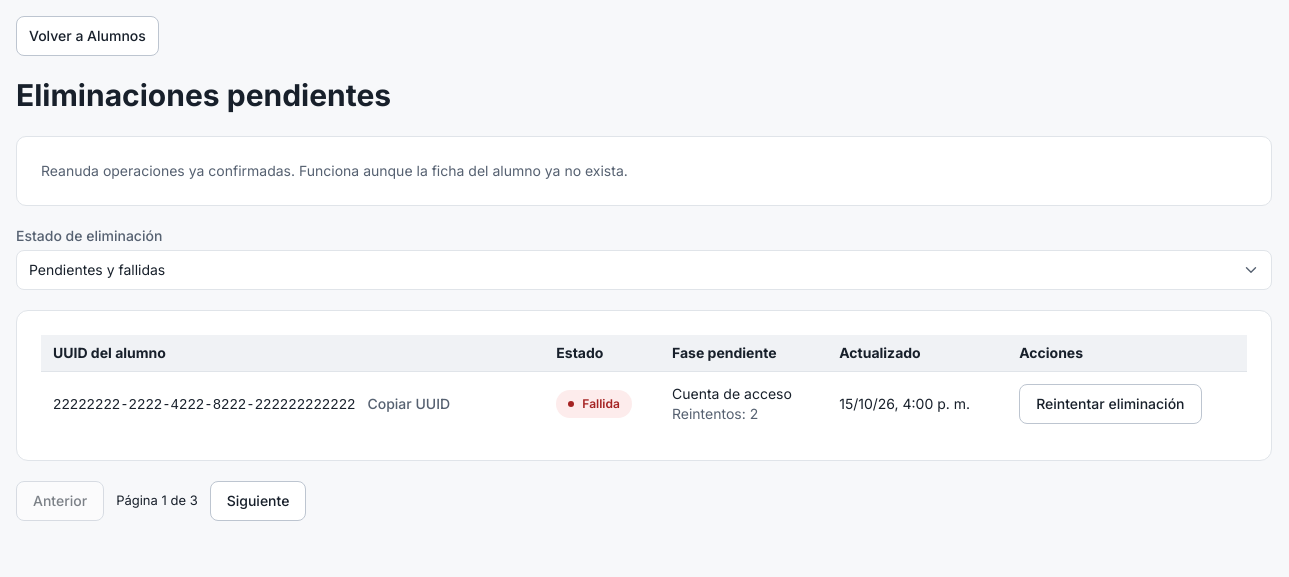
eliminaciones sin perfil › copia fallida conserva alternativa manual
Click the button "Copiar UUID".
click(409, 404)  # box [356, 384, 462, 424]
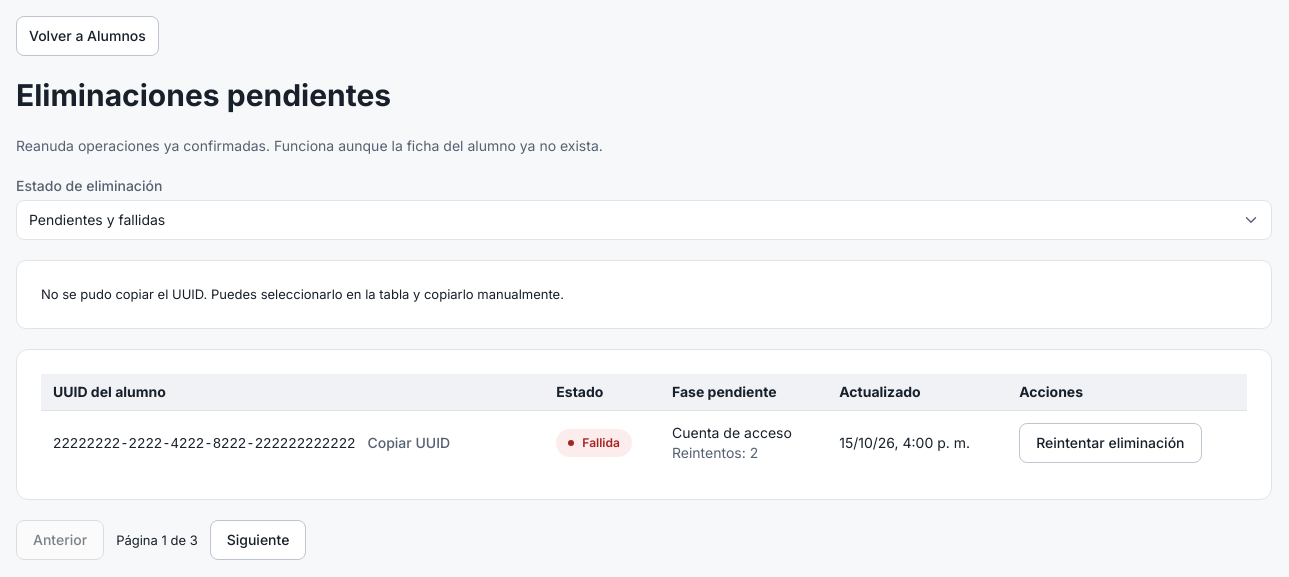
Expected: the text "22222222-2222-4222-8222-222222222222" is shown, [53, 436, 356, 452]
Result: the message shows "copiarlo manualmente" at [41, 286, 564, 302]
